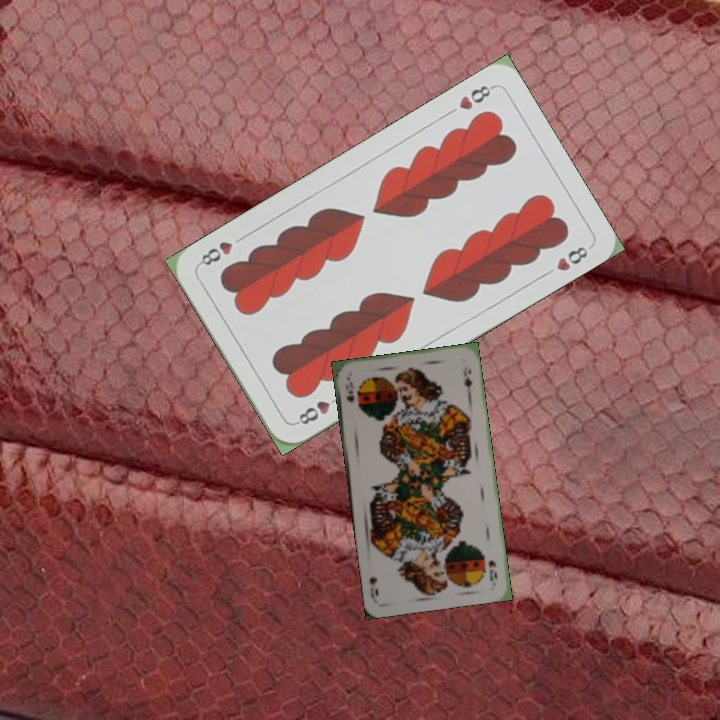H8: (291, 391, 345, 428), (454, 81, 497, 113)
SO: (484, 556, 500, 584), (343, 378, 357, 405)
